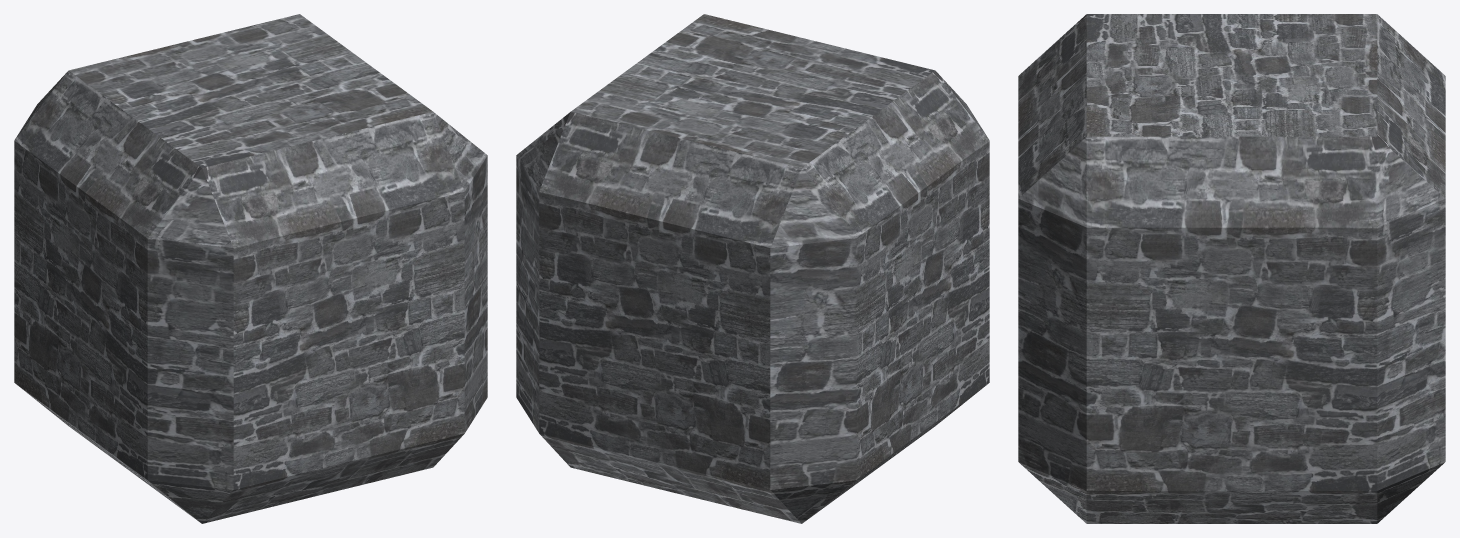
File: block_hard_castle.glb
The picture shows the model from 3 angles, left to right: view 1: azimuth 30°, elevation 25°; view 2: azimuth 150°, elevation 25°; view 3: azimuth 270°, elevation 25°; orthographic projection. The views are drawn at different scales.
Parts seen in each view (by area): view 1: hard; view 2: hard; view 3: hard.
Part boxes in pixels (x1,y1,x2,y2): hard: (14, 14, 487, 523); hard: (516, 14, 989, 523); hard: (1018, 14, 1445, 523).
Size of the model in its own units: 1 by 1 by 1.
Materials: 1 (1 with a texture image).
